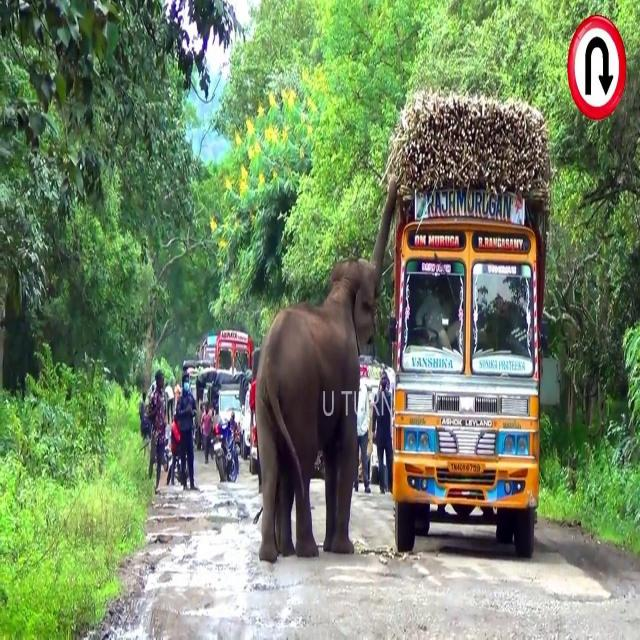Elephant: (255, 174, 400, 566)
